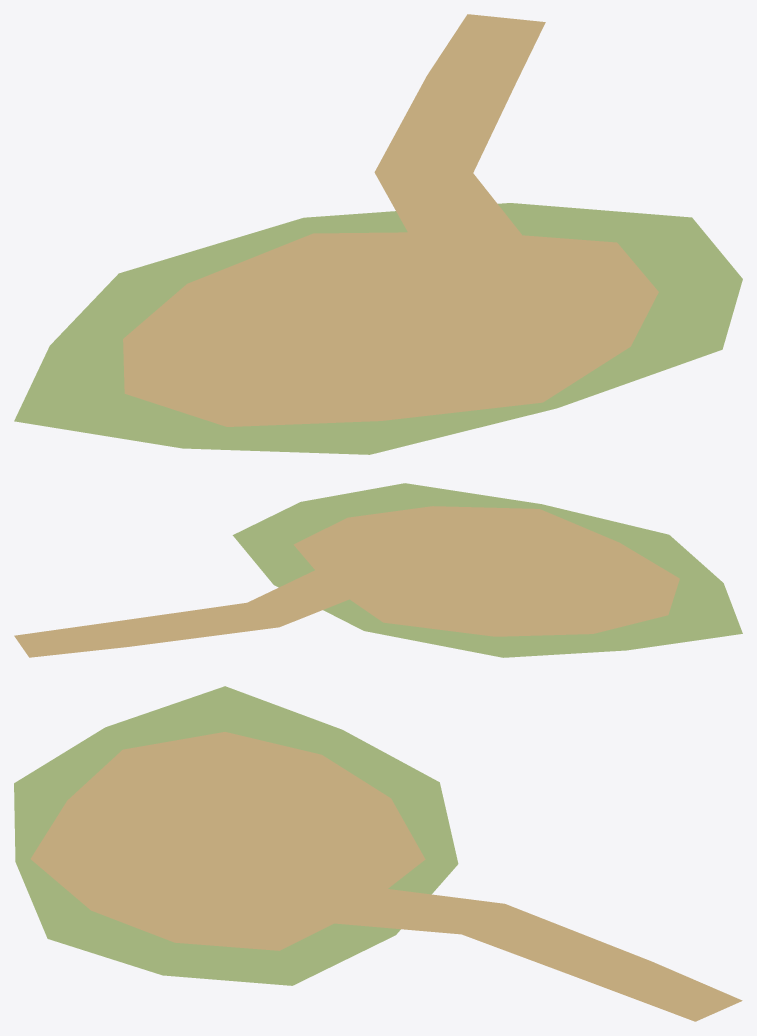
Rendered from Cour_Moulin.fbx.
3 views of the same model, one above another, from view 1: azimuth 30°, elevation 25°; view 2: azimuth 150°, elevation 25°; view 3: azimuth 270°, elevation 25° (orthographic). The views are drawn at different scales.
Visible parts, largest first — view 1: Cour_Moulin; view 2: Cour_Moulin; view 3: Cour_Moulin.
Part boxes in pixels (x1,y1,x2,y2): Cour_Moulin: (14,14,742,454); Cour_Moulin: (14,483,742,657); Cour_Moulin: (14,686,742,1021).
Size of the model in its own units: 1791 by 3.1 by 1638.
1 material, 1 textured.
